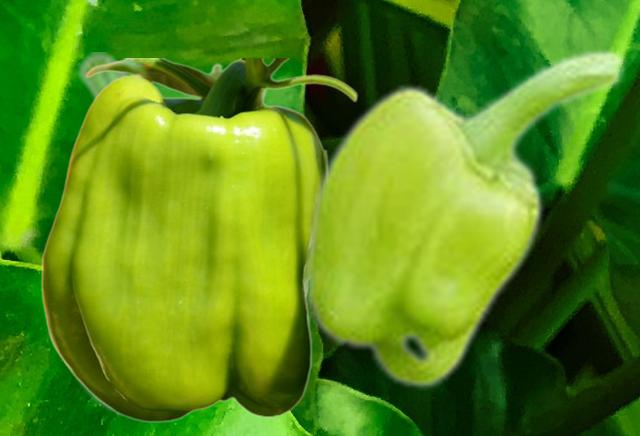bell_pepper: (40, 58, 357, 422), (303, 47, 627, 389), (60, 52, 123, 416)
